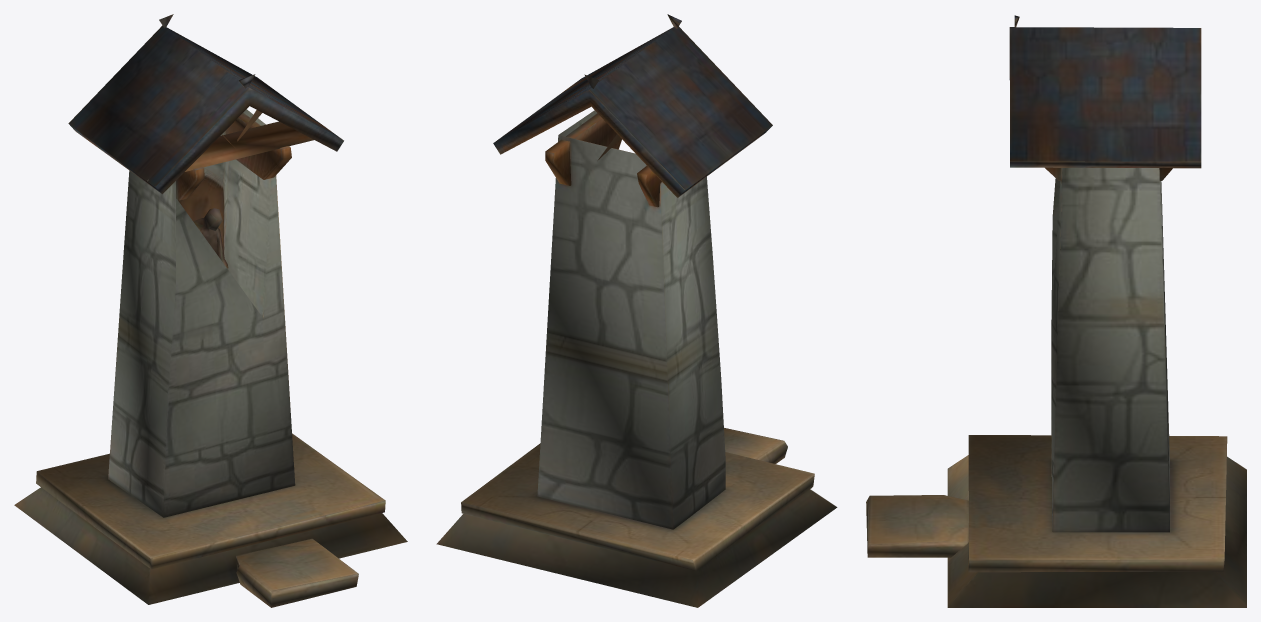
File: prop-shrine.glb
3 renders of one model, left to right at view 1: azimuth 30°, elevation 25°; view 2: azimuth 150°, elevation 25°; view 3: azimuth 270°, elevation 25°, orthographic. The views are drawn at different scales.
Size of the model in its own units: 0.5435 by 0.9521 by 0.6279.
1 material, 1 textured.
